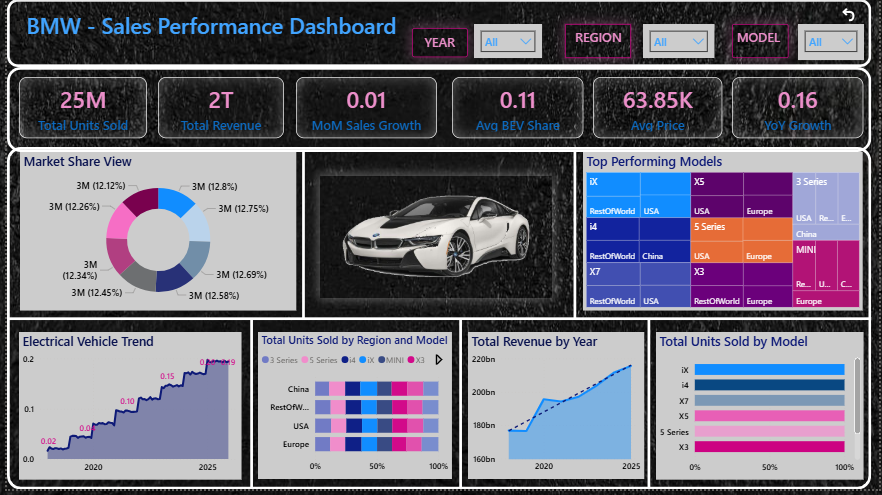

The dashboard page shown, as its layout file describes it:
{"tool":"powerbi","page":{"name":"Page 1","canvas":[1280,720],"ordinal":0},"visuals":[{"type":"shape","box":[0,0,1270,100],"z":0},{"type":"shape","box":[0,217.5,1269.8,503.2],"z":1000},{"type":"shape","box":[0,100,1270,125],"z":2000},{"type":"card","fields":{"Values":["bmw_global_sales_2018_2025.Total Units Sold"]},"box":[18.3,115,188.3,90],"z":3000},{"type":"card","fields":{"Values":["bmw_global_sales_2018_2025.Avg BEV Share"]},"box":[653.3,115,193.3,90],"z":4000},{"type":"card","fields":{"Values":["bmw_global_sales_2018_2025.Avg Price"]},"box":[861.7,115,190,90],"z":5000},{"type":"card","fields":{"Values":["bmw_global_sales_2018_2025.YoY Growth"]},"box":[1065,115,193.3,90],"z":6000},{"type":"card","fields":{"Values":["bmw_global_sales_2018_2025.Total Revenue"]},"box":[221.7,115,185,90],"z":7000},{"type":"card","fields":{"Values":["bmw_global_sales_2018_2025.MoM Sales Growth"]},"box":[425,115,206.7,90],"z":8000},{"type":"hundredPercentStackedBarChart","fields":{"Category":["bmw_global_sales_2018_2025.Model"],"Y":["bmw_global_sales_2018_2025.Total Units Sold"]},"box":[953.3,490,305,216.7],"z":9000},{"type":"donutChart","title":"Market Share View","fields":{"Category":["bmw_global_sales_2018_2025.Model"],"Y":["bmw_global_sales_2018_2025.Total Units Sold"]},"box":[19,225.4,406.3,233.3],"z":10000},{"type":"treemap","title":"Top Performing Models","fields":{"Values":["bmw_global_sales_2018_2025.Total Units Sold"],"Group":["bmw_global_sales_2018_2025.Model"],"Details":["bmw_global_sales_2018_2025.Region"]},"box":[846,225.4,411.1,233.3],"z":11000},{"type":"hundredPercentStackedBarChart","fields":{"Series":["bmw_global_sales_2018_2025.Model"],"Category":["bmw_global_sales_2018_2025.Region"],"Y":["bmw_global_sales_2018_2025.Total Units Sold"]},"box":[368.8,489.3,285.1,216],"z":12000},{"type":"lineChart","title":"Electrical Vehicle Trend","fields":{"Y":["bmw_global_sales_2018_2025.Avg BEV Share"],"Category":["bmw_global_sales_2018_2025.Date.Variation.Date Hierarchy.Year","bmw_global_sales_2018_2025.Date.Variation.Date Hierarchy.Quarter","bmw_global_sales_2018_2025.Date.Variation.Date Hierarchy.Month","bmw_global_sales_2018_2025.Date.Variation.Date Hierarchy.Day"]},"box":[18.3,490,326.7,216.7],"z":13000},{"type":"image","box":[460.3,260.3,341.3,179.4],"z":14000},{"type":"areaChart","fields":{"Category":["bmw_global_sales_2018_2025.Date.Variation.Date Hierarchy.Year","bmw_global_sales_2018_2025.Date.Variation.Date Hierarchy.Quarter","bmw_global_sales_2018_2025.Date.Variation.Date Hierarchy.Month","bmw_global_sales_2018_2025.Date.Variation.Date Hierarchy.Day"],"Y":["bmw_global_sales_2018_2025.Total Revenue"]},"box":[677.4,489.3,258.6,216],"z":15000},{"type":"shape","box":[0,436.5,1269.8,66.7],"z":16000},{"type":"shape","box":[327,469.8,63.5,250.8],"z":17000},{"type":"shape","box":[915.9,469.8,55.6,250.8],"z":18000},{"type":"shape","box":[634.9,469.8,63.5,250.8],"z":19000},{"type":"shape","box":[425.4,222.2,19,247.6],"z":20000},{"type":"shape","box":[806.3,225.4,55.6,244.4],"z":21000},{"type":"textbox","box":[0,11.8,595.1,63.2],"z":22000},{"type":"slicer","fields":{"Values":["bmw_global_sales_2018_2025.Year"]},"box":[686.7,36.7,100,50],"z":23000},{"type":"textbox","box":[595,43.3,81.7,43.3],"z":24000},{"type":"textbox","box":[820,36.7,96.7,50],"z":25000},{"type":"slicer","fields":{"Values":["bmw_global_sales_2018_2025.Region"]},"box":[935,36.7,105,50],"z":26000},{"type":"textbox","box":[1065,36.7,83.3,50],"z":27000},{"type":"slicer","fields":{"Values":["bmw_global_sales_2018_2025.Model"]},"box":[1161.7,36.7,96.7,53.3],"z":28000},{"type":"actionButton","box":[1222.5,8.8,36.7,27.9],"z":28001}]}

Visuals, with their boxes in screenshot pixels (x1, y1, x2, y2), scaled from the page's 1280x720 canvas onto the 882x495 screenshot:
shape: [left=0, top=0, right=875, bottom=69]
shape: [left=0, top=150, right=875, bottom=494]
shape: [left=0, top=69, right=875, bottom=155]
card - bmw_global_sales_2018_2025.Total Units Sold: [left=13, top=79, right=142, bottom=141]
card - bmw_global_sales_2018_2025.Avg BEV Share: [left=450, top=79, right=583, bottom=141]
card - bmw_global_sales_2018_2025.Avg Price: [left=594, top=79, right=725, bottom=141]
card - bmw_global_sales_2018_2025.YoY Growth: [left=734, top=79, right=867, bottom=141]
card - bmw_global_sales_2018_2025.Total Revenue: [left=153, top=79, right=280, bottom=141]
card - bmw_global_sales_2018_2025.MoM Sales Growth: [left=293, top=79, right=435, bottom=141]
hundredPercentStackedBarChart - bmw_global_sales_2018_2025.Model x bmw_global_sales_2018_2025.Total Units Sold: [left=657, top=337, right=867, bottom=486]
"Market Share View" donutChart: [left=13, top=155, right=293, bottom=315]
"Top Performing Models" treemap: [left=583, top=155, right=866, bottom=315]
hundredPercentStackedBarChart - bmw_global_sales_2018_2025.Model x bmw_global_sales_2018_2025.Region: [left=254, top=336, right=451, bottom=485]
"Electrical Vehicle Trend" lineChart: [left=13, top=337, right=238, bottom=486]
image: [left=317, top=179, right=552, bottom=302]
areaChart - bmw_global_sales_2018_2025.Date.Variation.Date Hierarchy.Year x bmw_global_sales_2018_2025.Date.Variation.Date Hierarchy.Quarter: [left=467, top=336, right=645, bottom=485]
shape: [left=0, top=300, right=875, bottom=346]
shape: [left=225, top=323, right=269, bottom=494]
shape: [left=631, top=323, right=669, bottom=494]
shape: [left=437, top=323, right=481, bottom=494]
shape: [left=293, top=153, right=306, bottom=323]
shape: [left=556, top=155, right=594, bottom=323]
textbox: [left=0, top=8, right=410, bottom=52]
slicer - bmw_global_sales_2018_2025.Year: [left=473, top=25, right=542, bottom=60]
textbox: [left=410, top=30, right=466, bottom=60]
textbox: [left=565, top=25, right=632, bottom=60]
slicer - bmw_global_sales_2018_2025.Region: [left=644, top=25, right=717, bottom=60]
textbox: [left=734, top=25, right=791, bottom=60]
slicer - bmw_global_sales_2018_2025.Model: [left=800, top=25, right=867, bottom=62]
actionButton: [left=842, top=6, right=868, bottom=25]
